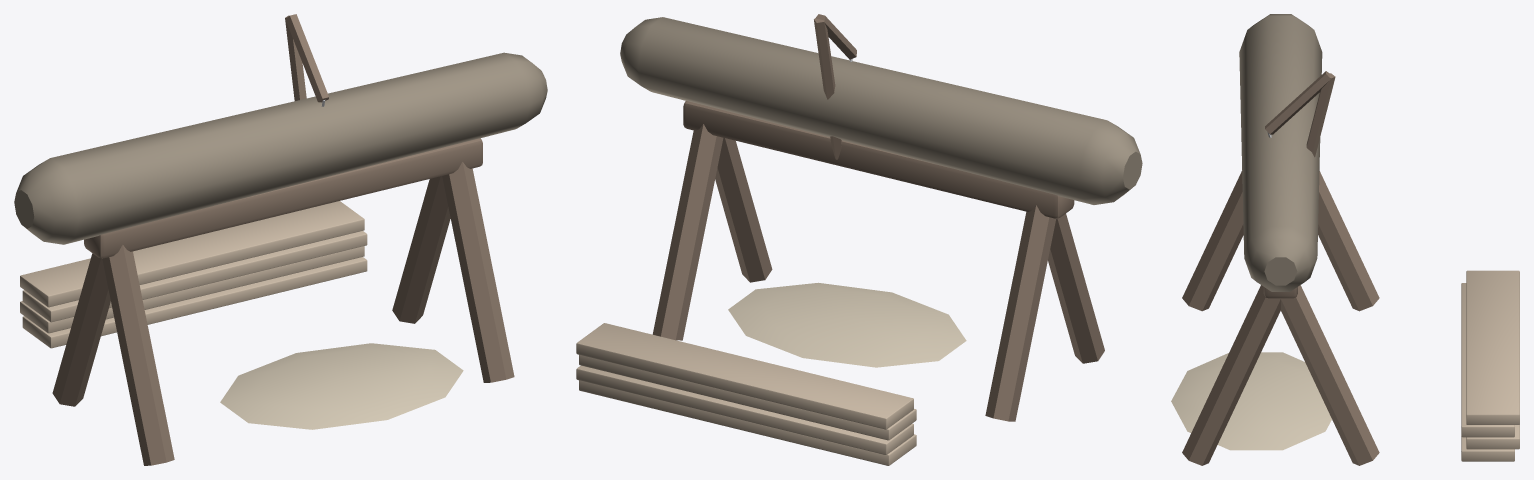
File: sawhorse.gltf
The picture shows the model from 3 angles, left to right: view 1: azimuth 30°, elevation 25°; view 2: azimuth 150°, elevation 25°; view 3: azimuth 270°, elevation 25°; orthographic projection. The views are drawn at different scales.
Parts seen in each view (by area): view 1: Body; view 2: Body; view 3: Body.
Boxes of the visible parts, x1,y1,x2,y2 form: Body: (14, 14, 547, 465); Body: (576, 14, 1142, 465); Body: (1171, 14, 1519, 465).
Bounding box in the file's own units: 2.27 × 1.5 × 1.43.
